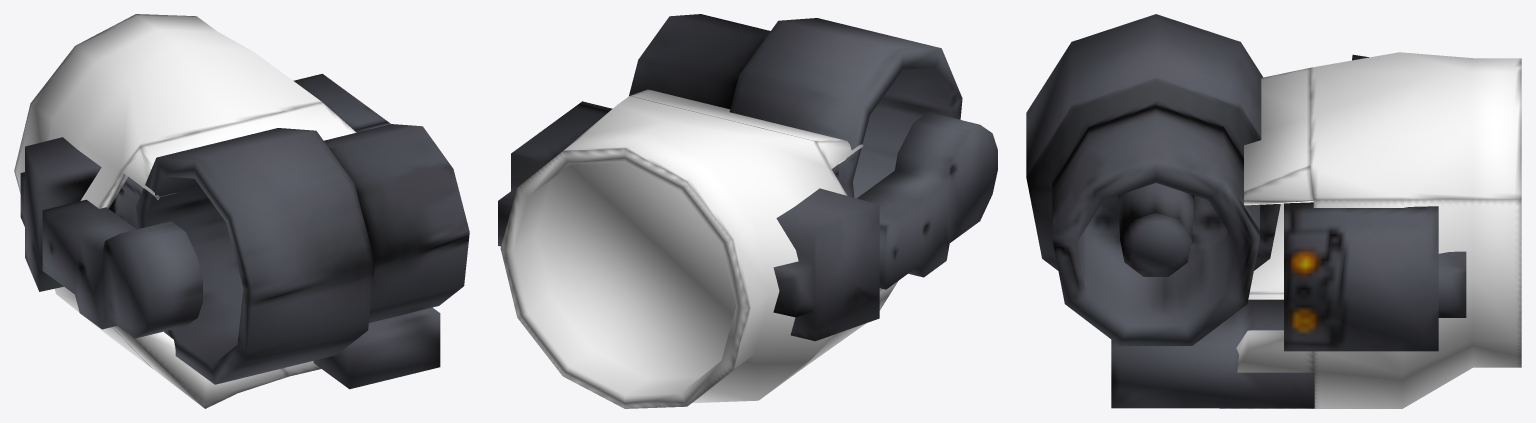
Rendered from r_uarm.dae.
The picture shows the model from 3 angles, left to right: view 1: azimuth 30°, elevation 25°; view 2: azimuth 150°, elevation 25°; view 3: azimuth 270°, elevation 25°; orthographic projection. The views are drawn at different scales.
Visible parts, largest first — view 1: r_uarm; view 2: r_uarm; view 3: r_uarm.
Part boxes in pixels (x1,y1,x2,y2): r_uarm: [14, 14, 469, 408]; r_uarm: [498, 14, 997, 408]; r_uarm: [1026, 14, 1521, 408].
Size of the model in its own units: 0.1475 by 0.1769 by 0.1261.
1 material, 1 textured.
